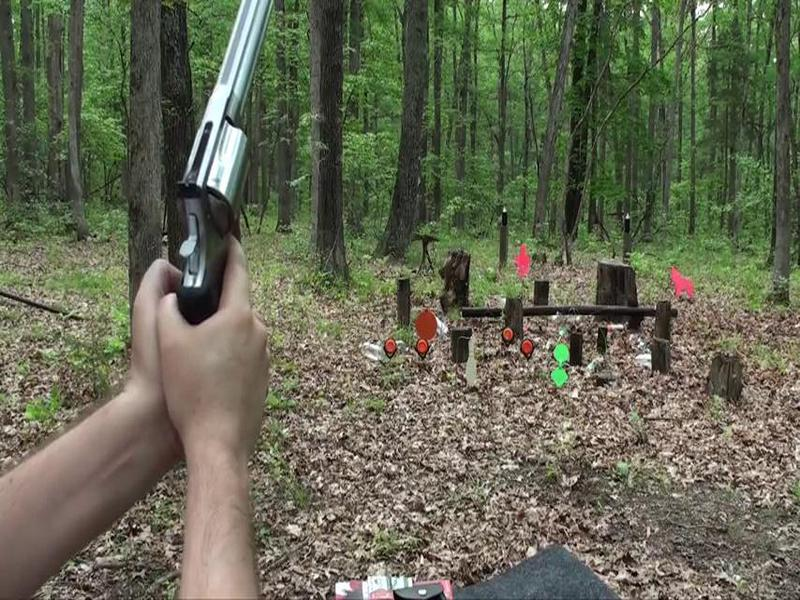Revolver: (126, 1, 289, 329)
